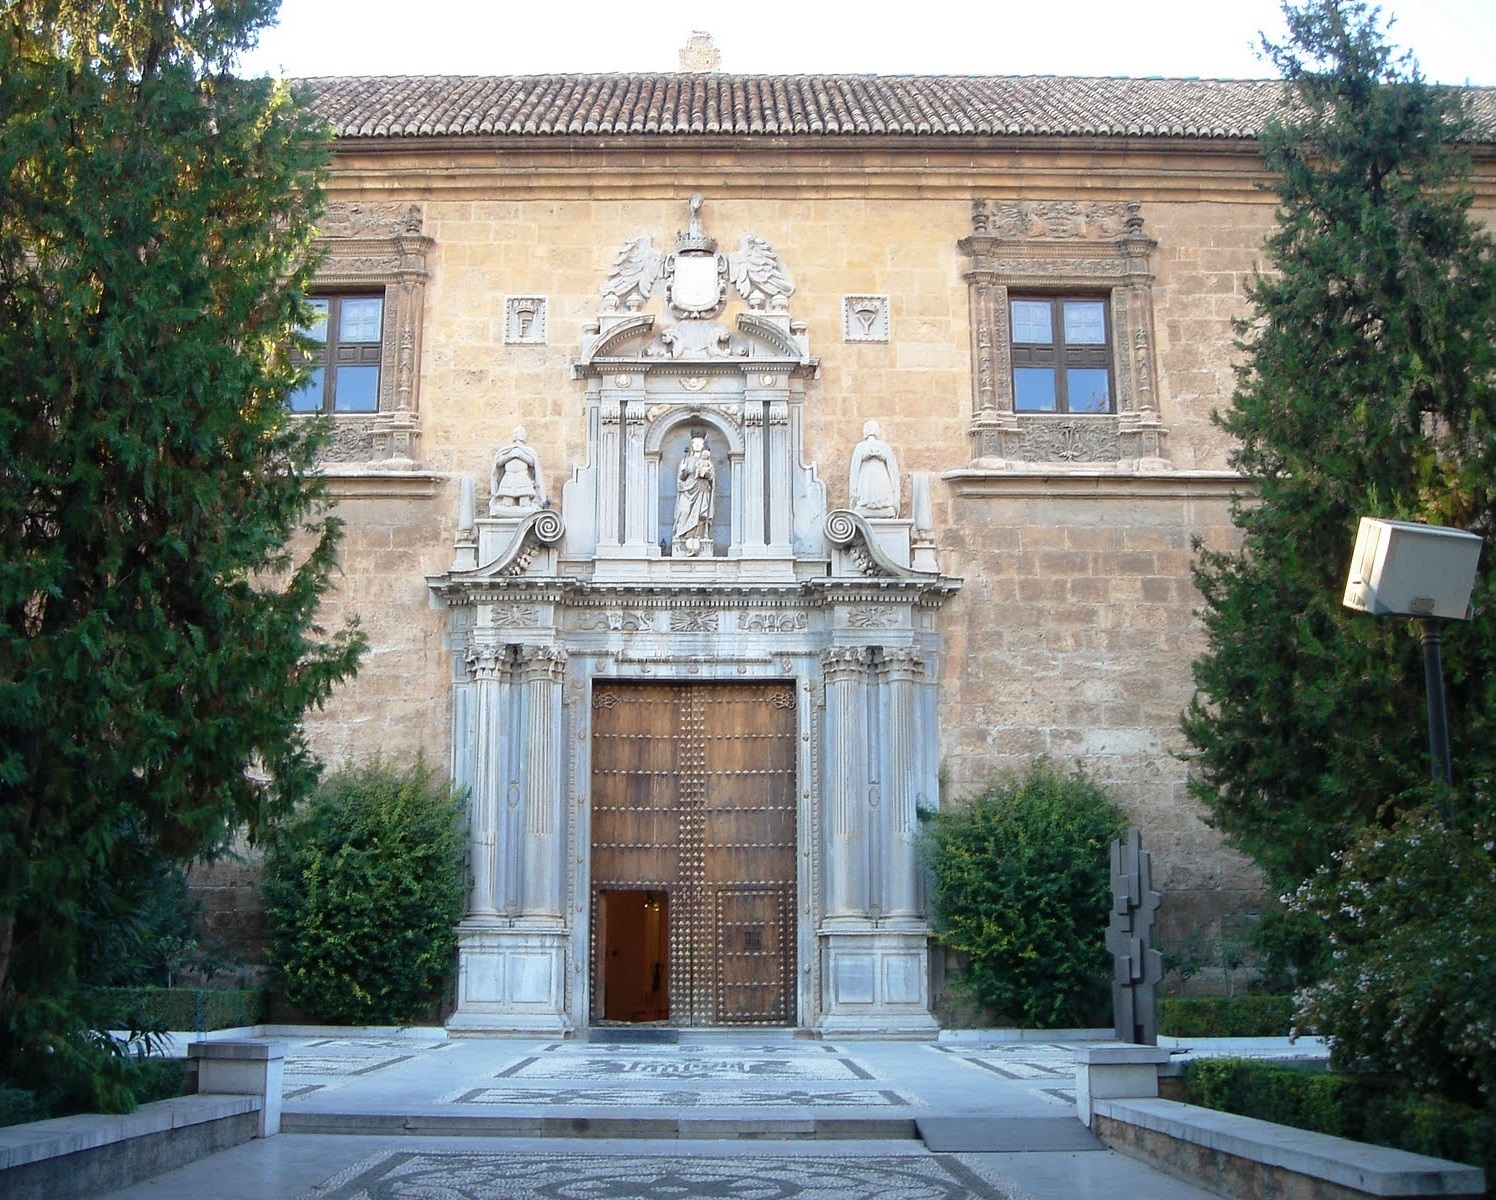fronton-partido: (438, 501, 922, 599), (579, 311, 807, 373)
vano-adintelado: (572, 651, 814, 1033), (955, 260, 1172, 424), (285, 264, 409, 419)
